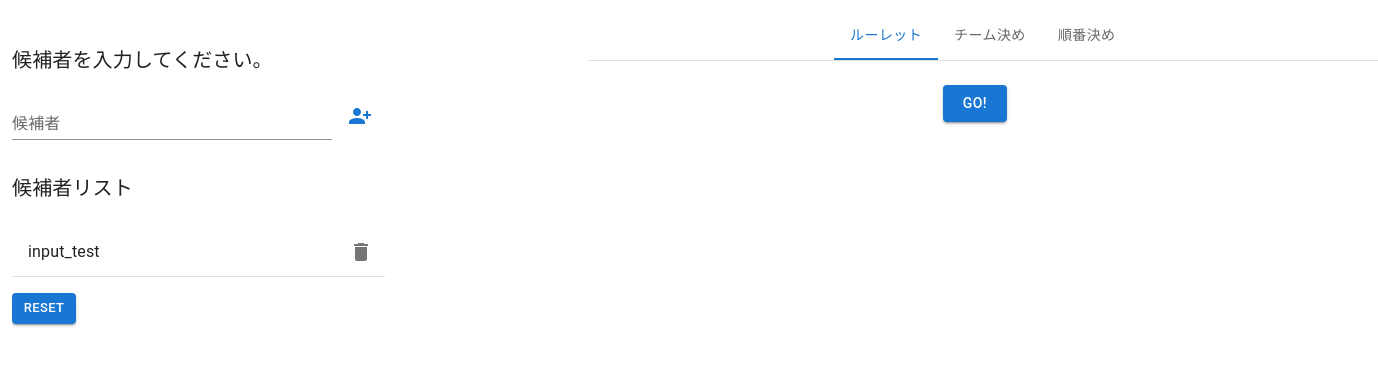
it: 候補者を入力のバリデーション › 候補者を入力せずに追加ボタンをクリック
Click the button with test id "PersonAddAlt1Icon" at (360, 116), box x1=348 y1=104 x2=372 y2=128
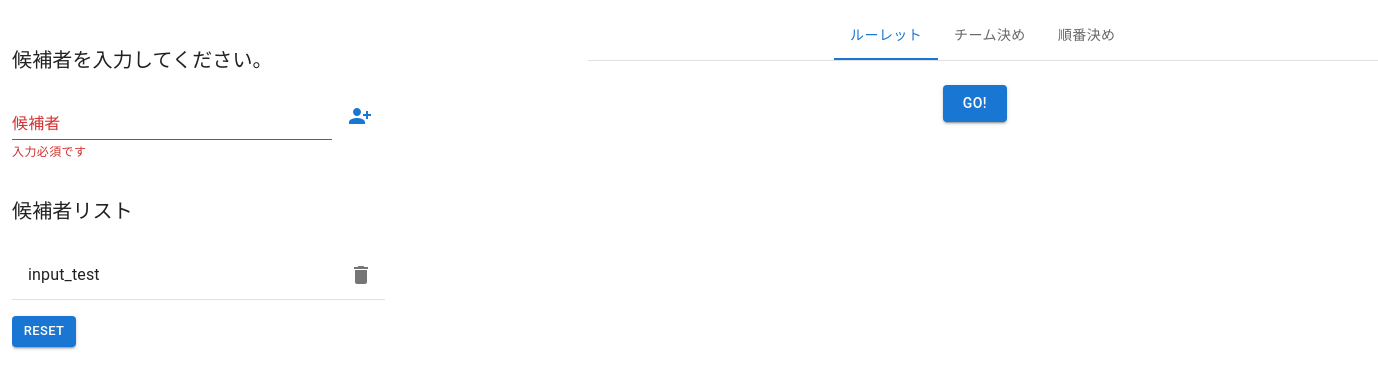
Now the text "入力必須です" is shown, box x1=12 y1=145 x2=86 y2=159
